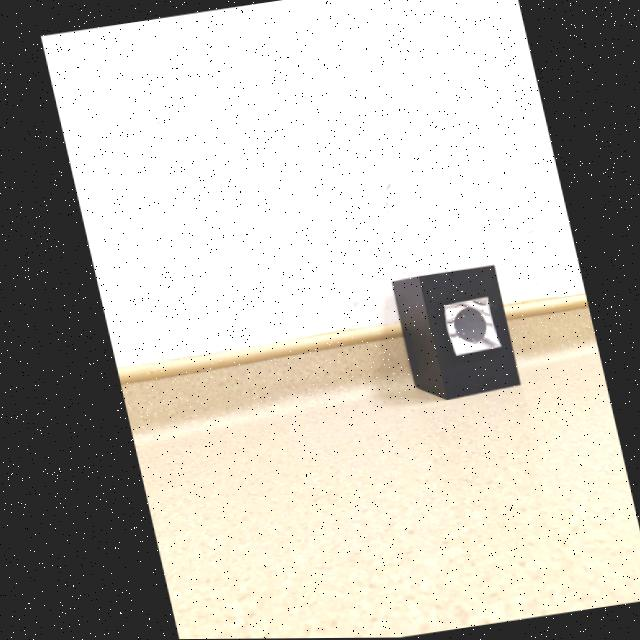CIRCLE: (448, 309, 480, 344)
